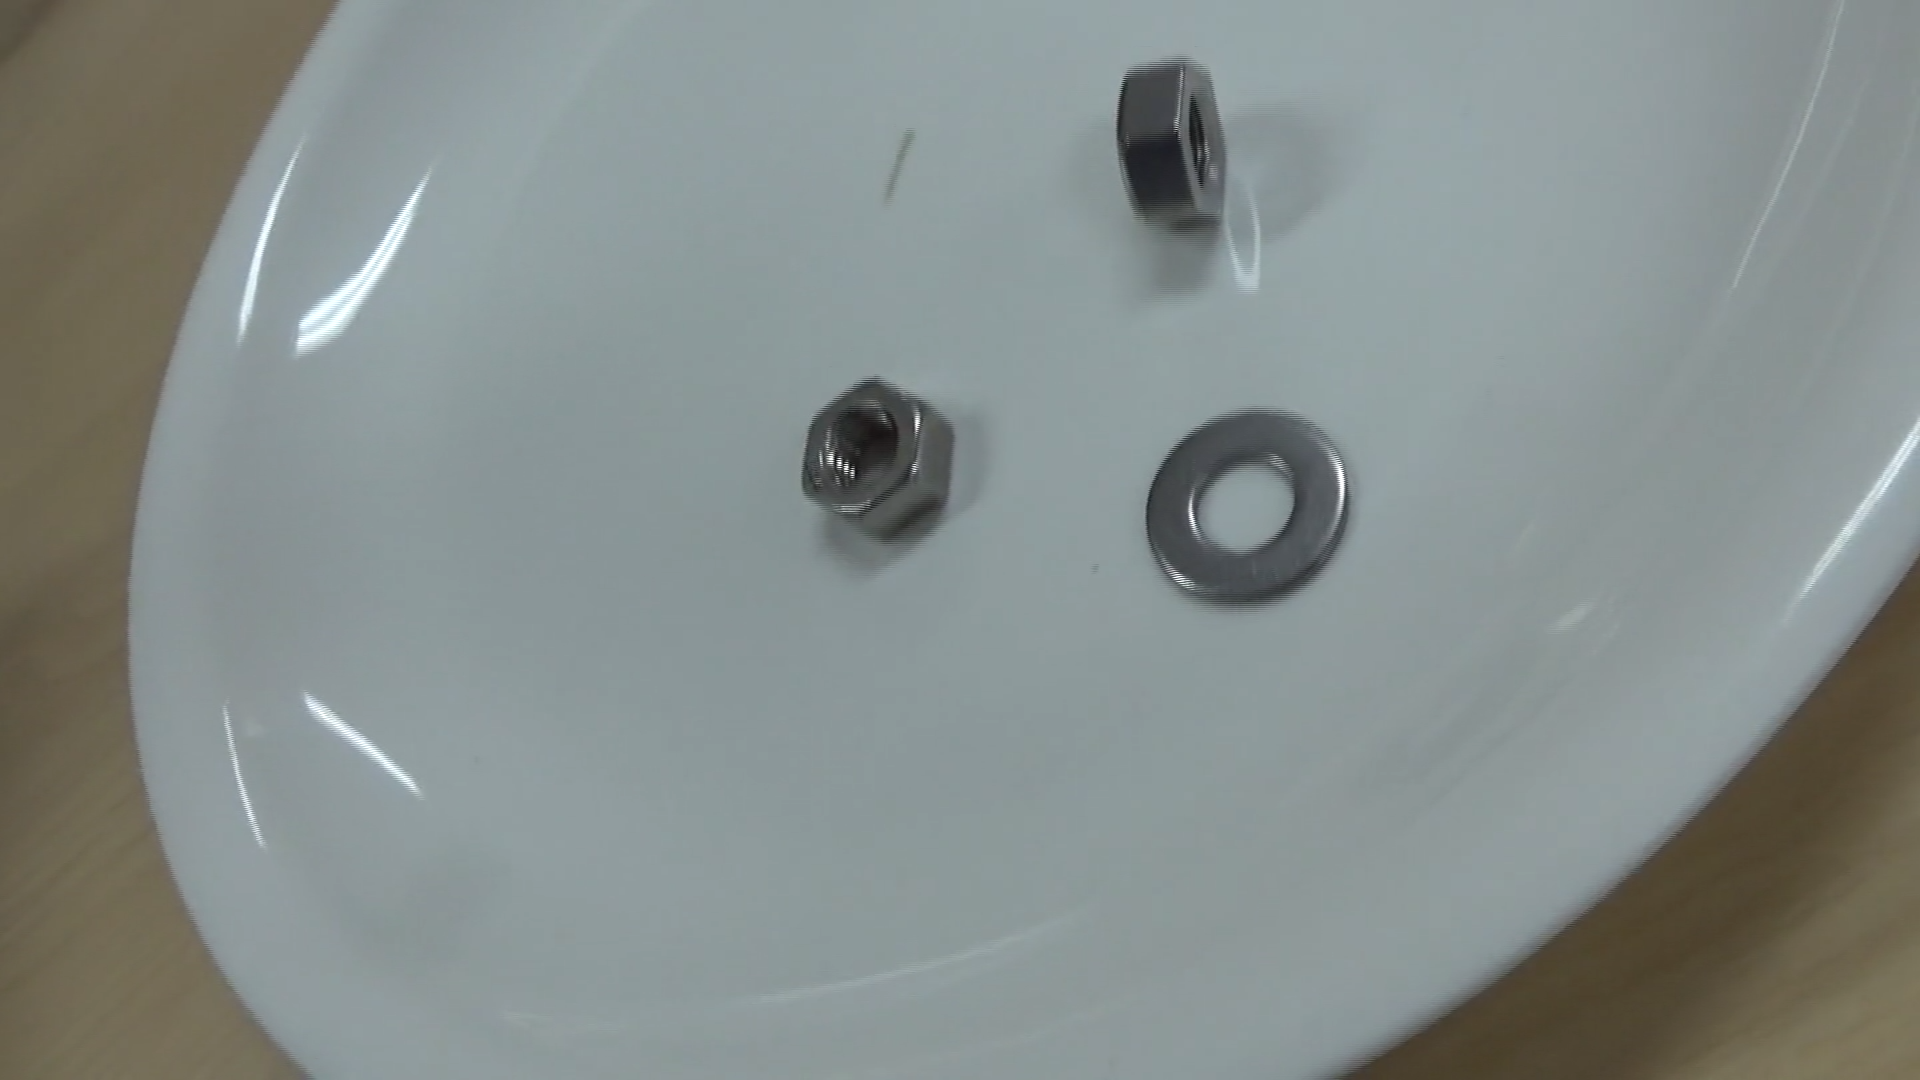nut: (771, 334, 982, 563), (1098, 50, 1266, 241)
washer: (1113, 372, 1383, 655)
